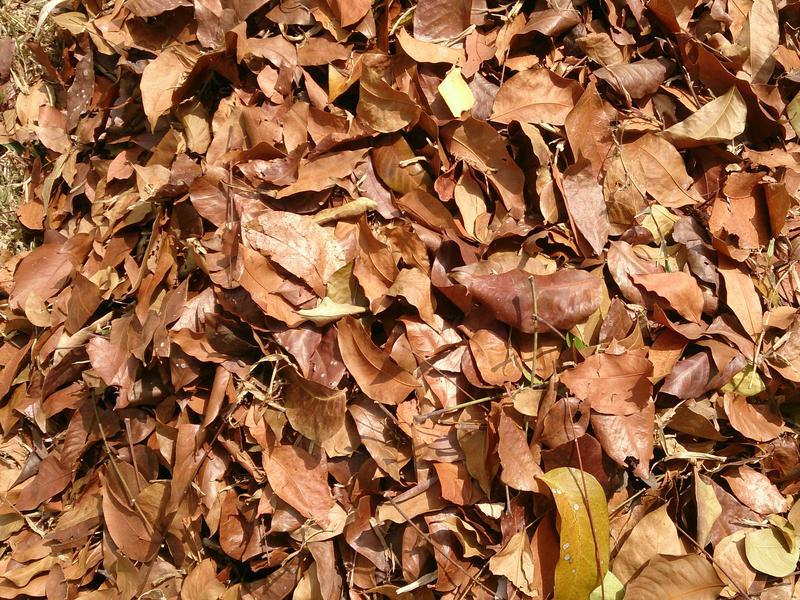leaf: (531, 459, 623, 600), (449, 257, 608, 331), (440, 115, 532, 224), (244, 205, 347, 298), (328, 315, 425, 404), (269, 356, 353, 445), (617, 135, 713, 211), (657, 82, 750, 157), (261, 445, 341, 531), (486, 62, 585, 130), (560, 349, 659, 416), (557, 145, 616, 255), (271, 144, 377, 204), (713, 257, 777, 347), (624, 265, 711, 329), (719, 386, 795, 444)
